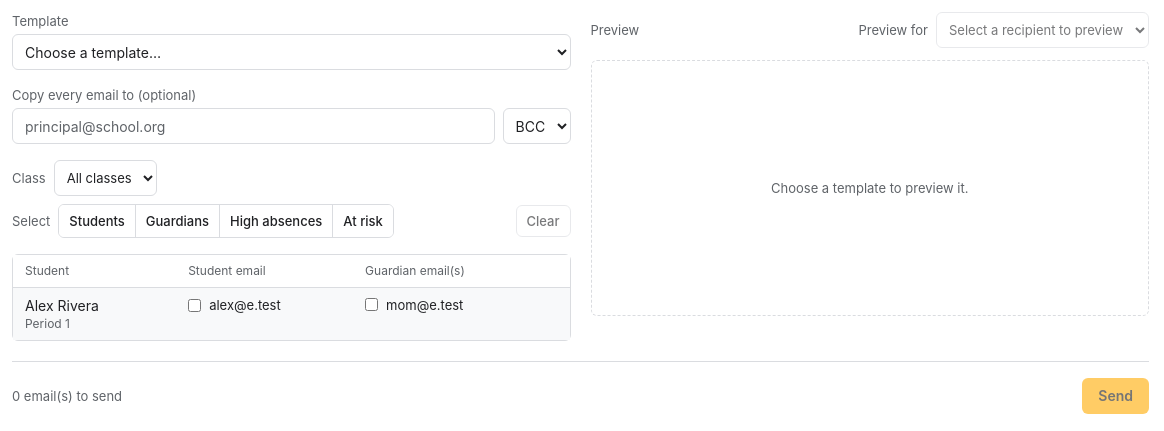
Scenario: ComposeView › All Guardians checks only rows that have a guardian email
Expected: the button "Alex Rivera" is shown, 25,296 -> 99,316
Click the button with aria-label "Select all guardians" at (178,221), box 136,205 -> 220,237
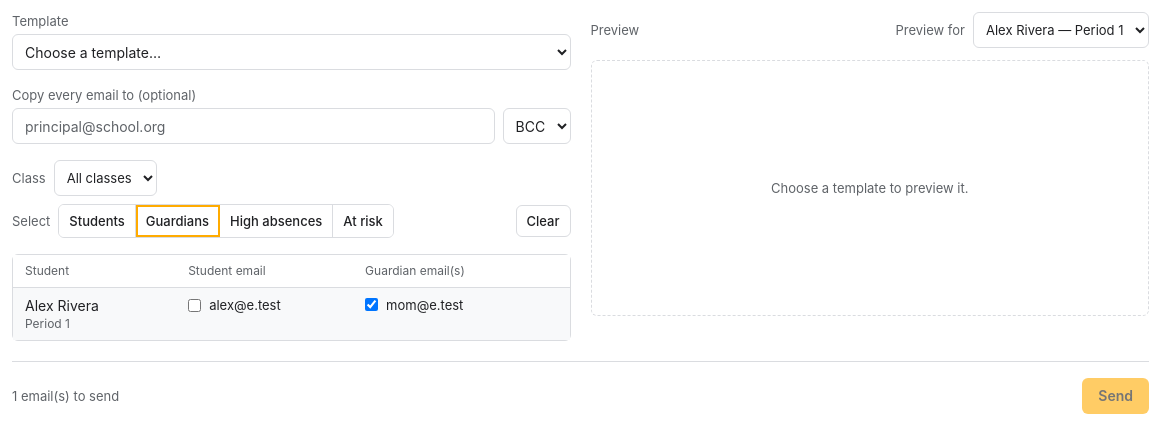
Expected: the checkbox named "Student email for Alex Rivera in Period 1" is not checked, 188,298 -> 201,312
Now the checkbox named "Guardian emails for Alex Rivera in Period 1" is checked, box 365,298 -> 378,311
Now the text "1 email(s) to send" is shown, box 12,387 -> 119,405
